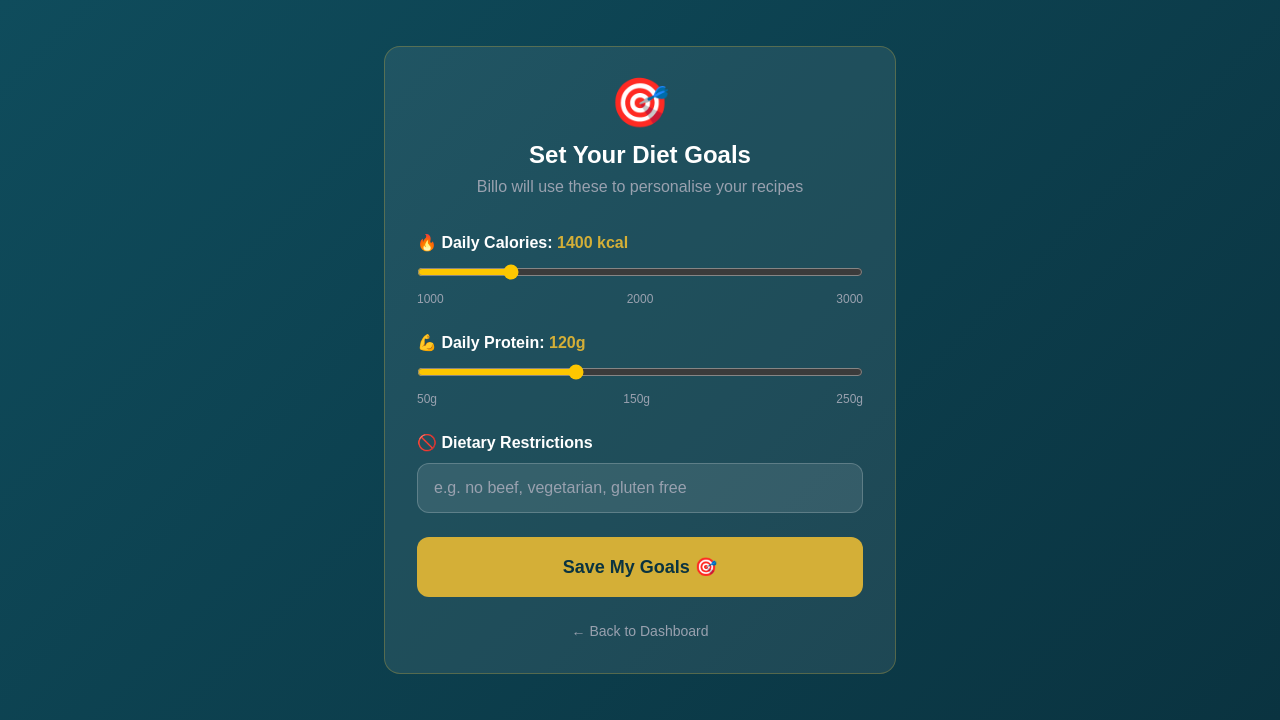
Onboarding › shows error when save fails
Expected: the heading "Set Your Diet Goals" is shown, [529,141,751,168]
Click the button "Save My Goals 🎯" at (640, 567), box [417,537,863,597]
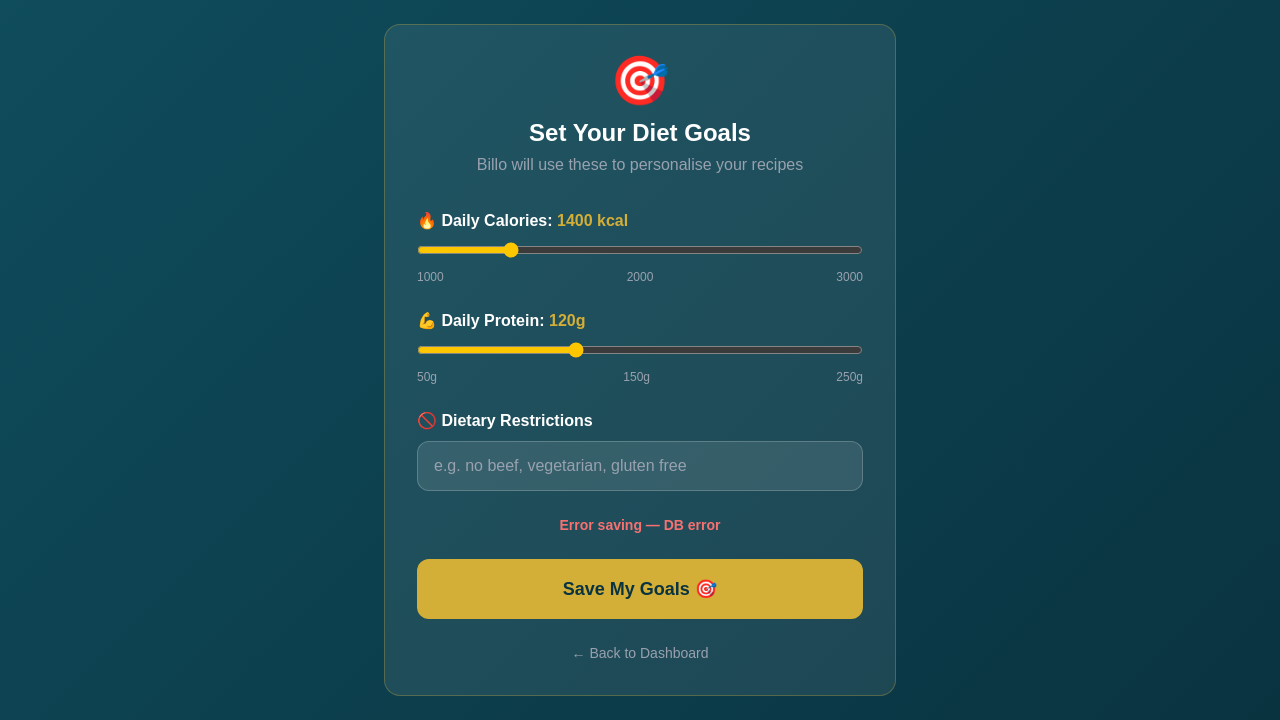
Expected: the text "Error saving — DB error" is shown, [560,517,721,533]
